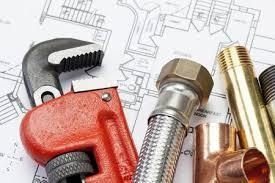wrench: (16, 35, 140, 182)
